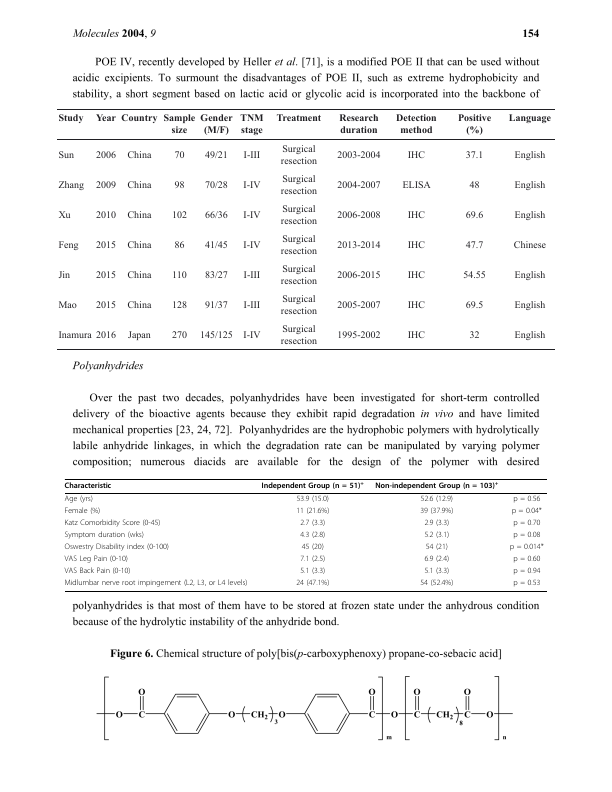borderless: (56, 108, 555, 349), (63, 478, 547, 591)
cell: (64, 579, 248, 588), (374, 480, 499, 491), (261, 480, 365, 491), (64, 543, 170, 553), (64, 519, 161, 529), (395, 114, 437, 137), (338, 114, 379, 137), (279, 174, 318, 198), (279, 145, 318, 168), (279, 204, 318, 227), (279, 234, 318, 257), (279, 264, 318, 287), (279, 294, 318, 317), (279, 324, 318, 347), (64, 531, 145, 541), (457, 114, 492, 137), (162, 114, 196, 137), (199, 114, 233, 137), (64, 567, 131, 576), (64, 555, 129, 564), (239, 114, 264, 137), (336, 180, 381, 192), (275, 114, 322, 125), (507, 114, 552, 125), (336, 151, 381, 162), (336, 210, 381, 221), (336, 240, 381, 251), (336, 270, 381, 281), (336, 300, 381, 311), (336, 330, 381, 341), (64, 482, 112, 491), (120, 114, 158, 125), (513, 180, 546, 192), (512, 240, 547, 251), (57, 330, 92, 341), (199, 330, 233, 341), (64, 507, 101, 517), (513, 151, 546, 162), (513, 210, 546, 221), (513, 270, 546, 281), (513, 300, 546, 311), (513, 330, 546, 341), (509, 543, 545, 553), (401, 180, 431, 192), (295, 495, 330, 505), (295, 507, 330, 517), (419, 507, 454, 517), (420, 495, 454, 505), (57, 180, 85, 192), (511, 507, 543, 517), (295, 579, 330, 588), (419, 579, 454, 588), (126, 180, 152, 192), (64, 495, 94, 505), (57, 114, 84, 125), (512, 495, 541, 505), (512, 519, 541, 529), (512, 531, 541, 541), (204, 180, 228, 192), (126, 151, 152, 162), (126, 210, 152, 221), (126, 240, 152, 251), (126, 270, 152, 281), (126, 300, 152, 311), (299, 519, 326, 529), (423, 519, 450, 529), (299, 531, 326, 541), (423, 531, 450, 541), (204, 151, 228, 162), (95, 180, 117, 192), (204, 210, 228, 221), (204, 240, 228, 251), (204, 270, 228, 281), (462, 270, 486, 281), (204, 300, 228, 311), (127, 330, 151, 341), (512, 555, 541, 564), (512, 567, 541, 576), (512, 579, 541, 588), (299, 555, 326, 564), (423, 555, 450, 564), (299, 567, 326, 576), (423, 567, 450, 576), (95, 114, 117, 125), (94, 151, 116, 162), (94, 210, 116, 221), (57, 240, 79, 251), (95, 240, 117, 251), (95, 270, 117, 281), (95, 300, 117, 311), (95, 330, 117, 341), (301, 543, 325, 553), (425, 543, 449, 553), (242, 180, 261, 192), (406, 151, 426, 162), (464, 151, 484, 162), (406, 210, 426, 221), (464, 210, 484, 221), (406, 240, 426, 251), (464, 240, 484, 251), (406, 270, 426, 281), (57, 300, 77, 311), (406, 300, 426, 311), (464, 300, 484, 311), (406, 330, 426, 341), (242, 151, 261, 162), (242, 210, 261, 221), (242, 240, 261, 251), (242, 270, 261, 281), (242, 300, 261, 311), (242, 330, 261, 341), (57, 151, 75, 162), (171, 210, 188, 221), (171, 300, 188, 311), (171, 330, 188, 341), (171, 270, 187, 281), (57, 210, 71, 221), (57, 270, 71, 281), (173, 180, 185, 192), (468, 180, 480, 192), (173, 151, 185, 162), (173, 240, 185, 251), (468, 330, 480, 341)
